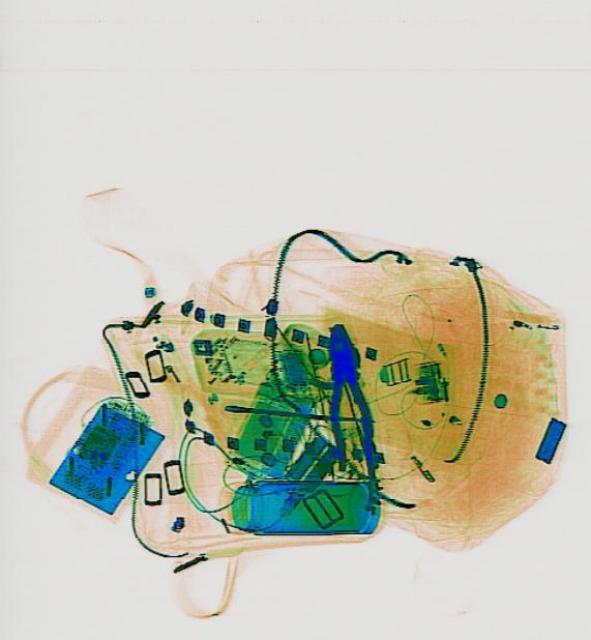Pliers: (317, 320, 377, 478)
